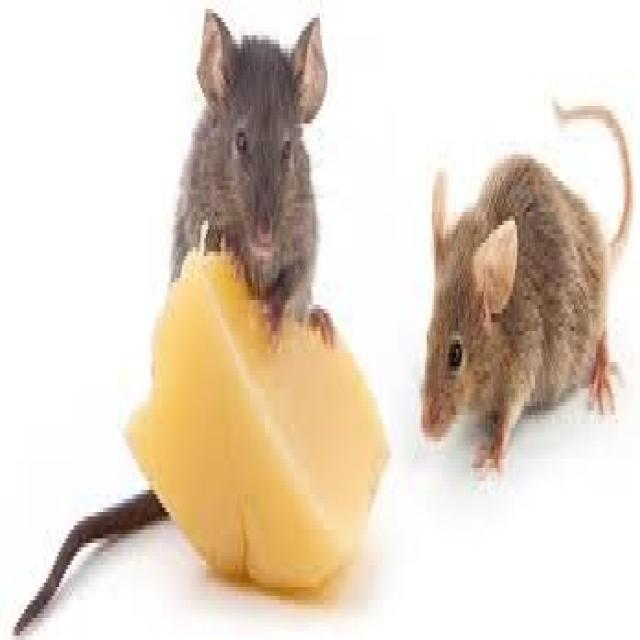Mouse: (419, 90, 631, 458), (163, 5, 327, 314)
